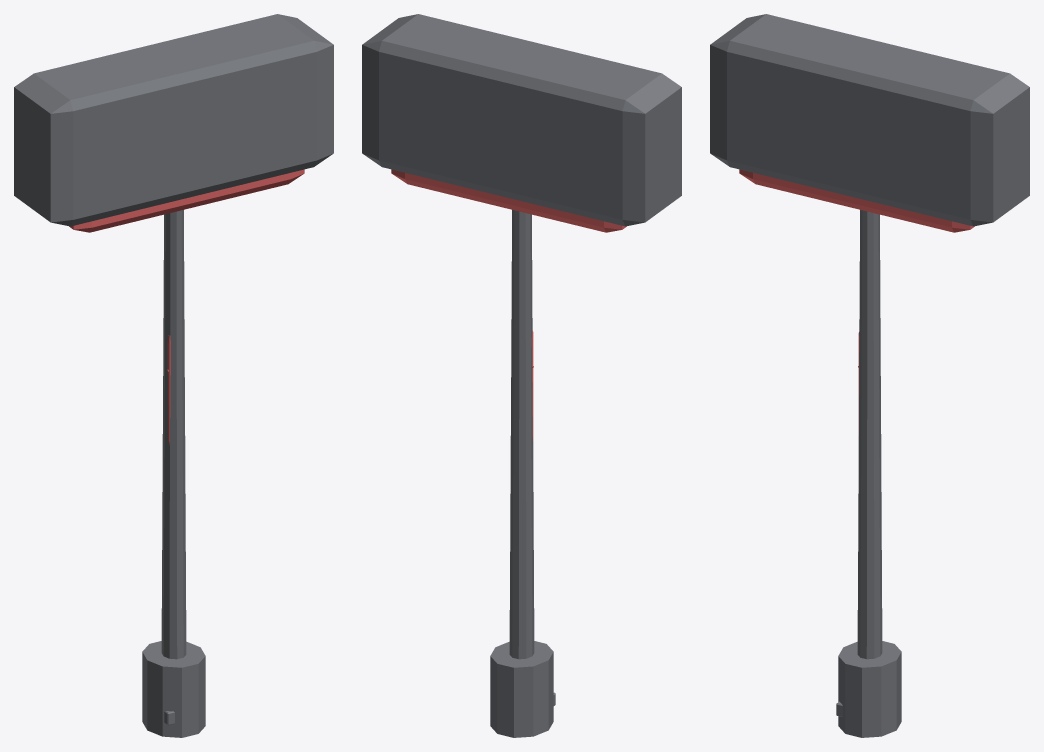
Rendered from b18_twin_vertical_banner_gateway.glb.
The picture shows the model from 3 angles, left to right: view 1: azimuth 30°, elevation 25°; view 2: azimuth 150°, elevation 25°; view 3: azimuth 330°, elevation 25°; orthographic projection.
Visible parts, largest first — view 1: b18_twin_vertical_banner_gateway; view 2: b18_twin_vertical_banner_gateway; view 3: b18_twin_vertical_banner_gateway.
Boxes of the visible parts, box(x1,y1,x2,y2) form: b18_twin_vertical_banner_gateway: box(14, 14, 333, 737); b18_twin_vertical_banner_gateway: box(362, 14, 681, 737); b18_twin_vertical_banner_gateway: box(710, 14, 1029, 737).
Size of the model in its own units: 2 by 4.5 by 0.52.
